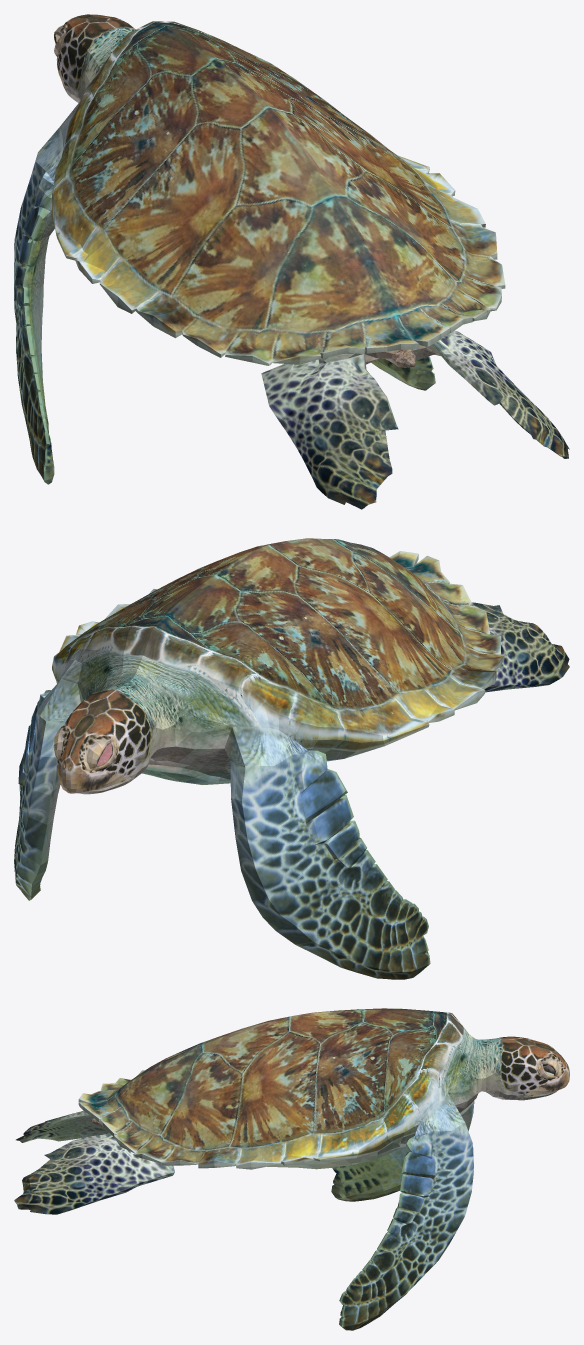
The model's file is frame_13.obj.
The picture shows the model from 3 angles, top to bottom: view 1: azimuth 30°, elevation 25°; view 2: azimuth 150°, elevation 25°; view 3: azimuth 270°, elevation 25°; orthographic projection. The views are drawn at different scales.
Parts seen in each view (by area): view 1: Turtle GEO Turtle; view 2: Turtle GEO Turtle; view 3: Turtle GEO Turtle.
Part boxes in pixels (box(x1,y1,x2,y2)): Turtle GEO Turtle: box(14, 14, 569, 509); Turtle GEO Turtle: box(14, 538, 569, 979); Turtle GEO Turtle: box(14, 1008, 569, 1330).
Bounding box in the file's own units: 55.85 × 50.06 × 98.59.
Materials: 1 (1 with a texture image).
